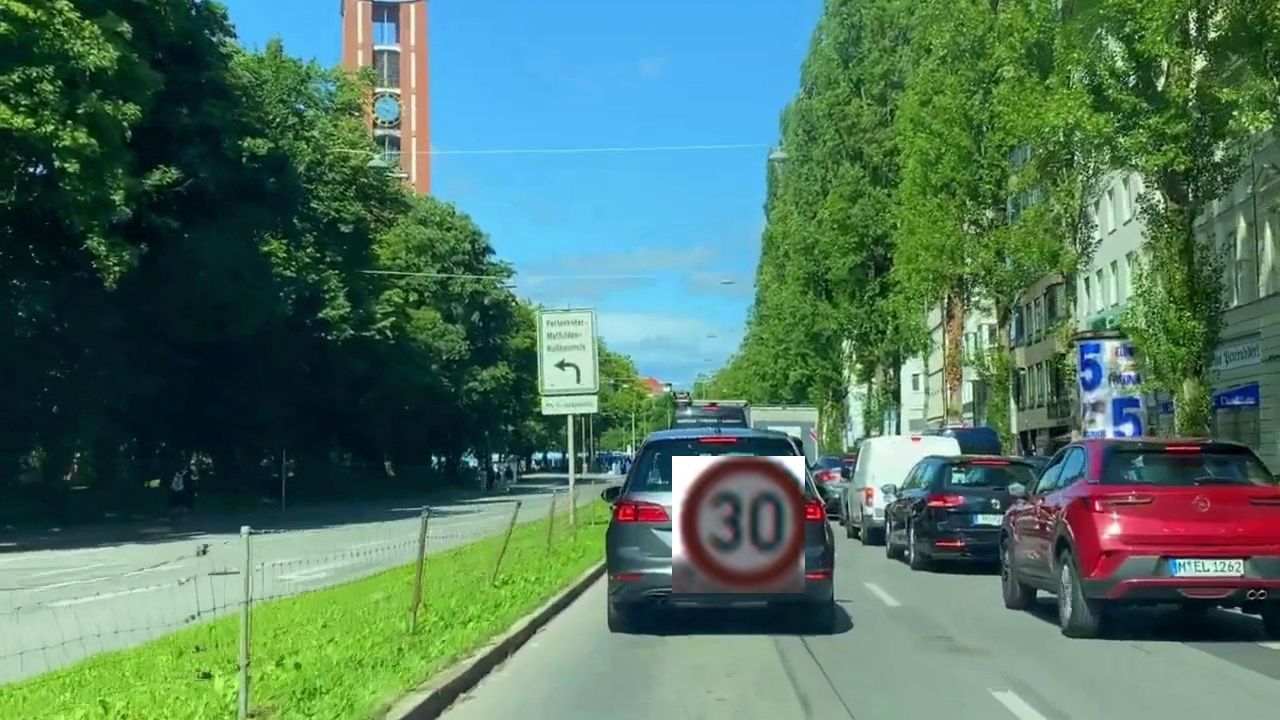Speed 30: (672, 456, 805, 593)
